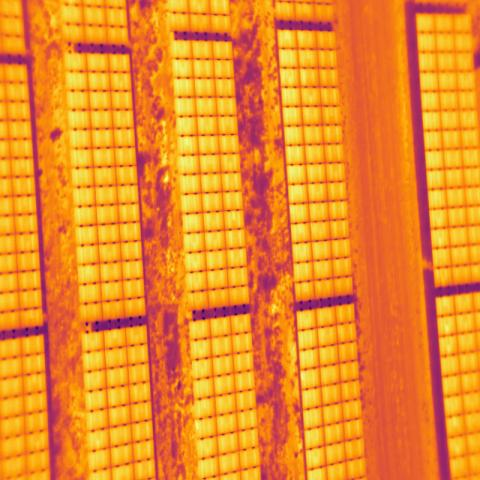fault: (194, 415, 218, 441)
